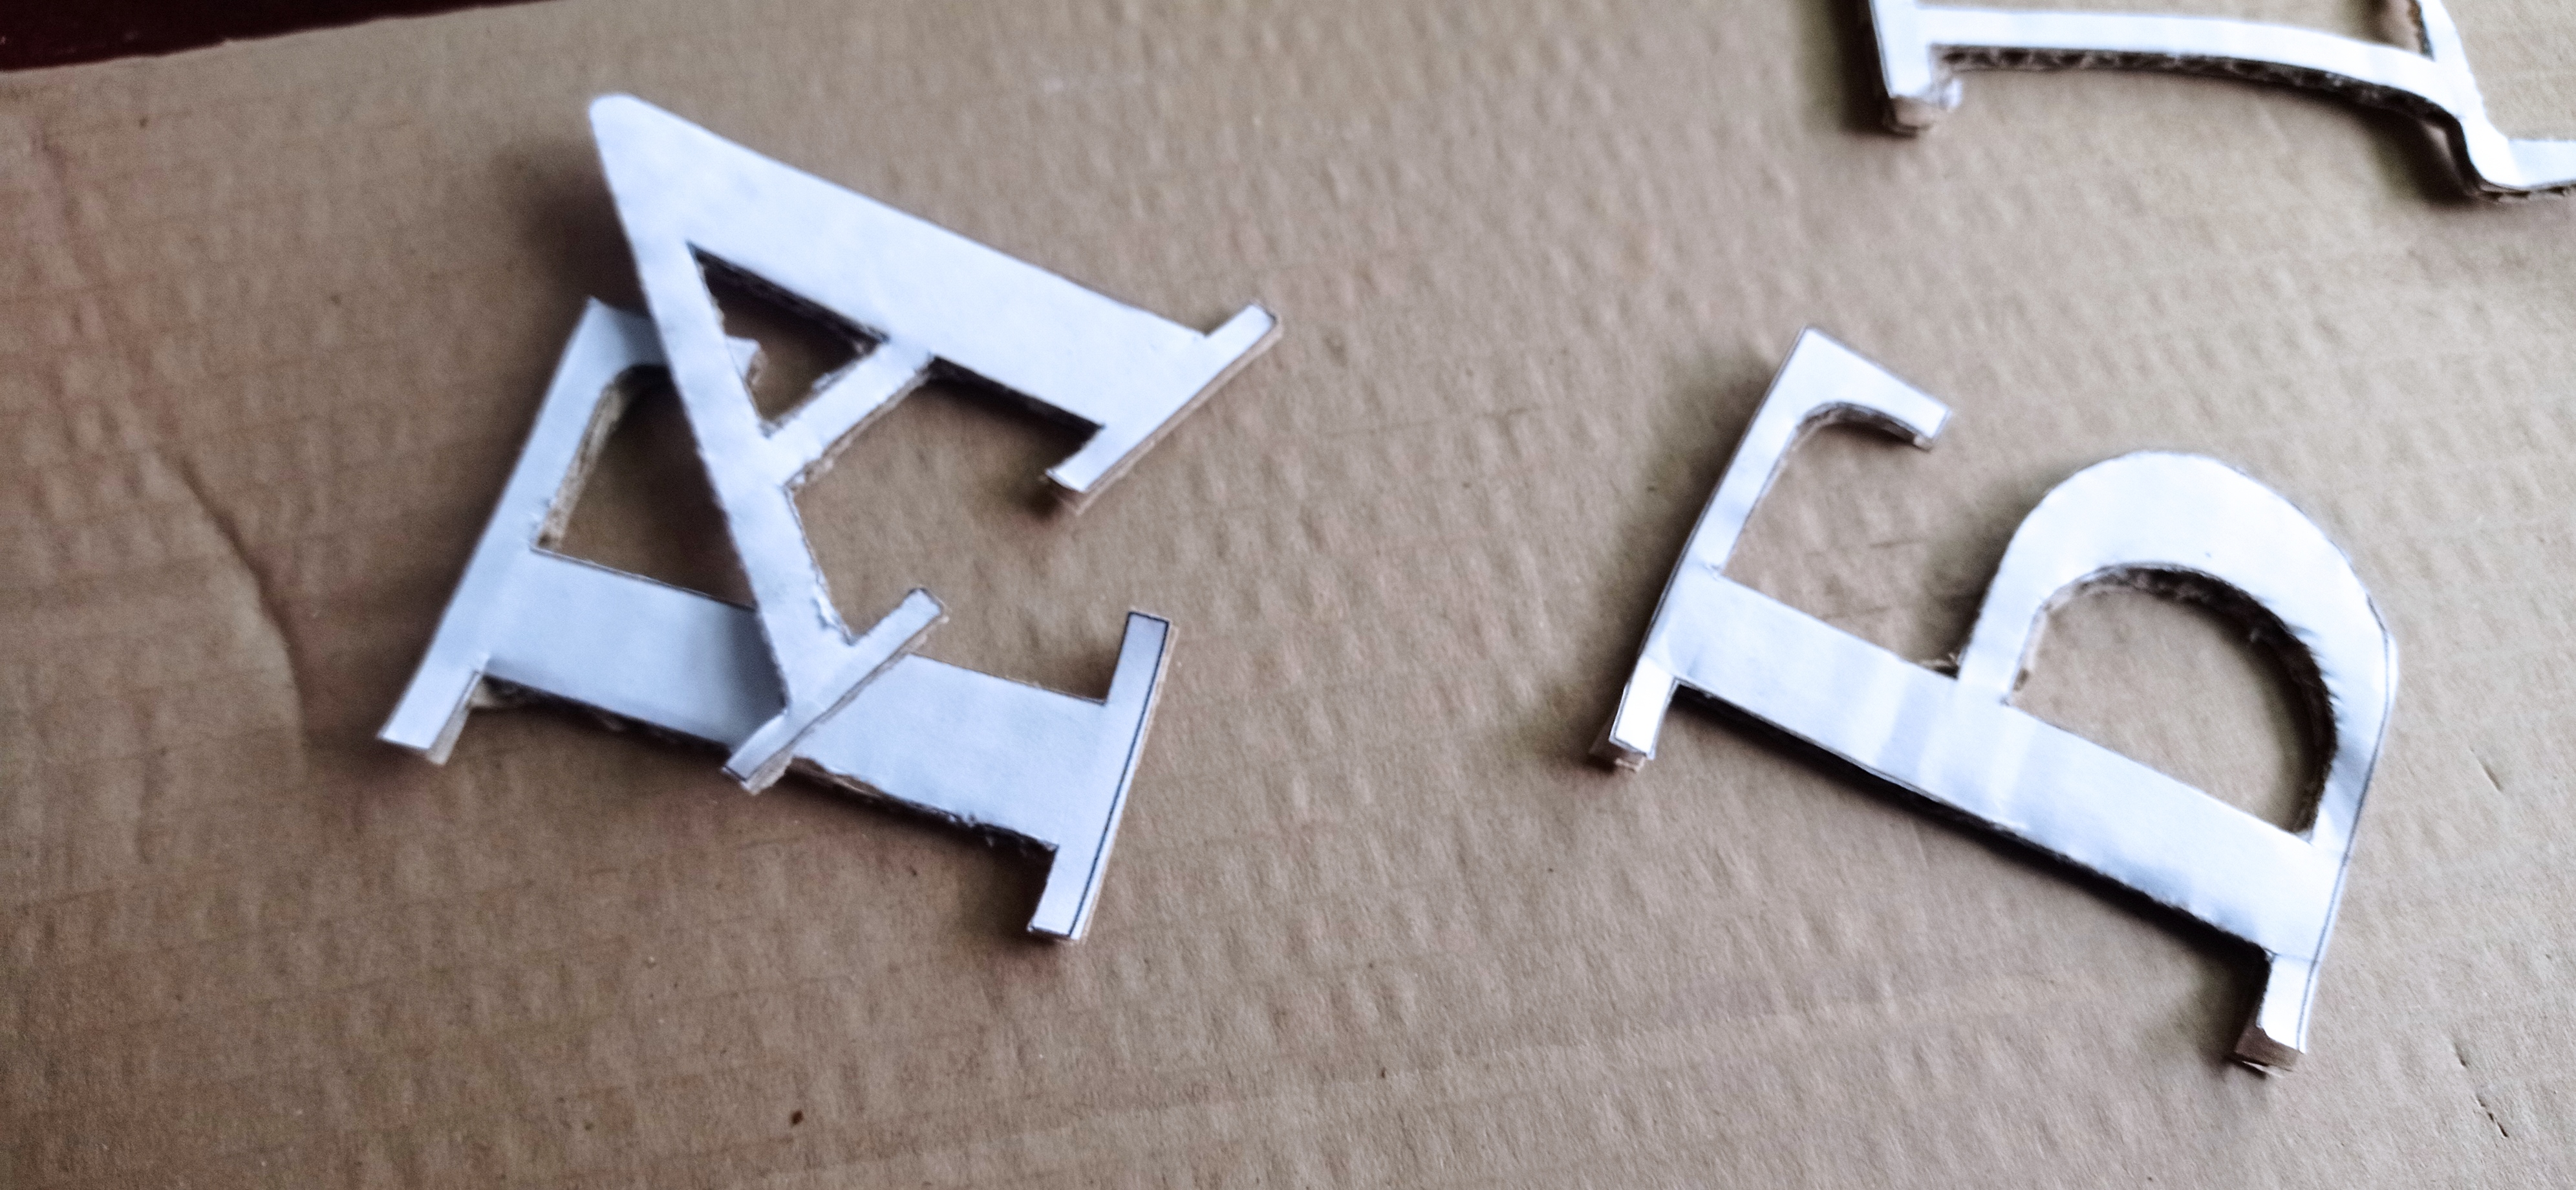a: (585, 87, 1283, 800)
b: (1595, 324, 2395, 1068)
g: (376, 286, 1178, 943)
